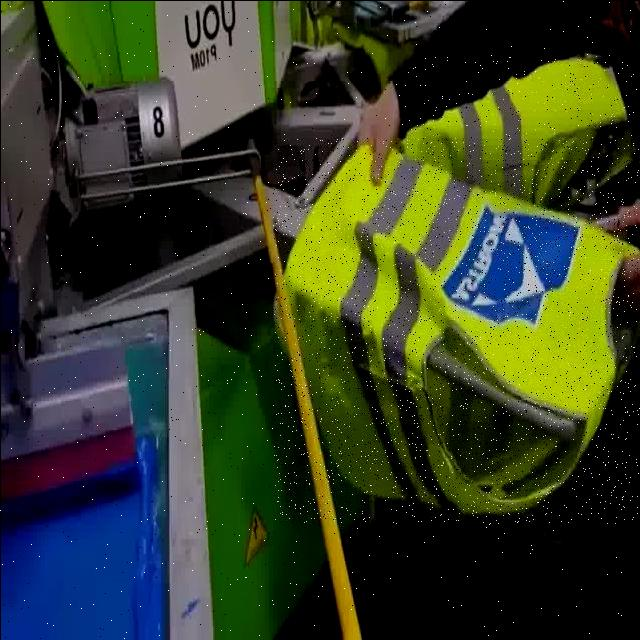Vest: (272, 137, 638, 524), (404, 54, 635, 204)
